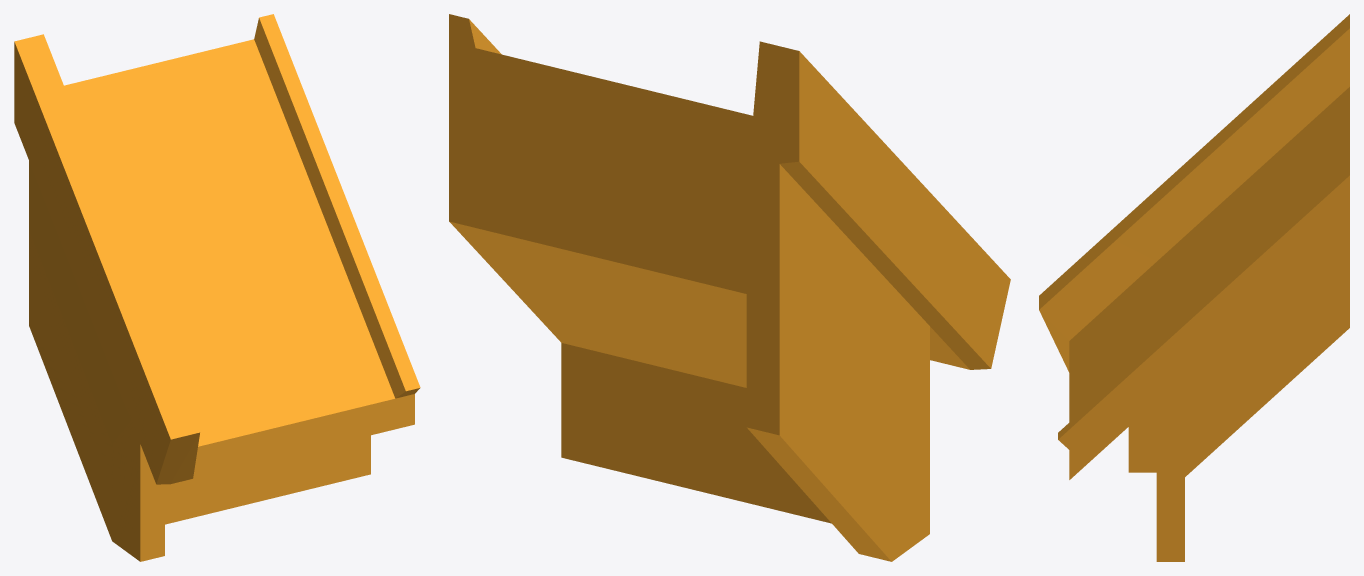
File: SM_Roof_Metal_Regular_Edge_Front.fbx
3 renders of one model, left to right at view 1: azimuth 30°, elevation 25°; view 2: azimuth 150°, elevation 25°; view 3: azimuth 270°, elevation 25°, orthographic. The views are drawn at different scales.
Parts seen in each view (by area): view 1: roof-metal-regular-edge-front; view 2: roof-metal-regular-edge-front; view 3: roof-metal-regular-edge-front.
Part boxes in pixels (x1=…): roof-metal-regular-edge-front: x1=14, y1=14, x2=420, y2=561; roof-metal-regular-edge-front: x1=449, y1=14, x2=1010, y2=561; roof-metal-regular-edge-front: x1=1039, y1=14, x2=1349, y2=561.
Size of the model in its own units: 0.53 by 0.8645 by 0.554.
